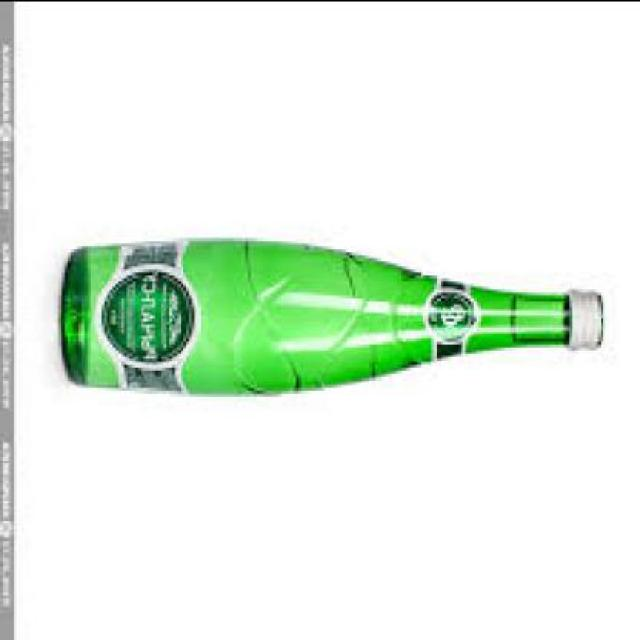GLASS: (61, 242, 572, 396)
METAL: (576, 291, 606, 352)
